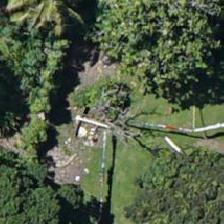coconut_tree: (12, 0, 102, 46)
